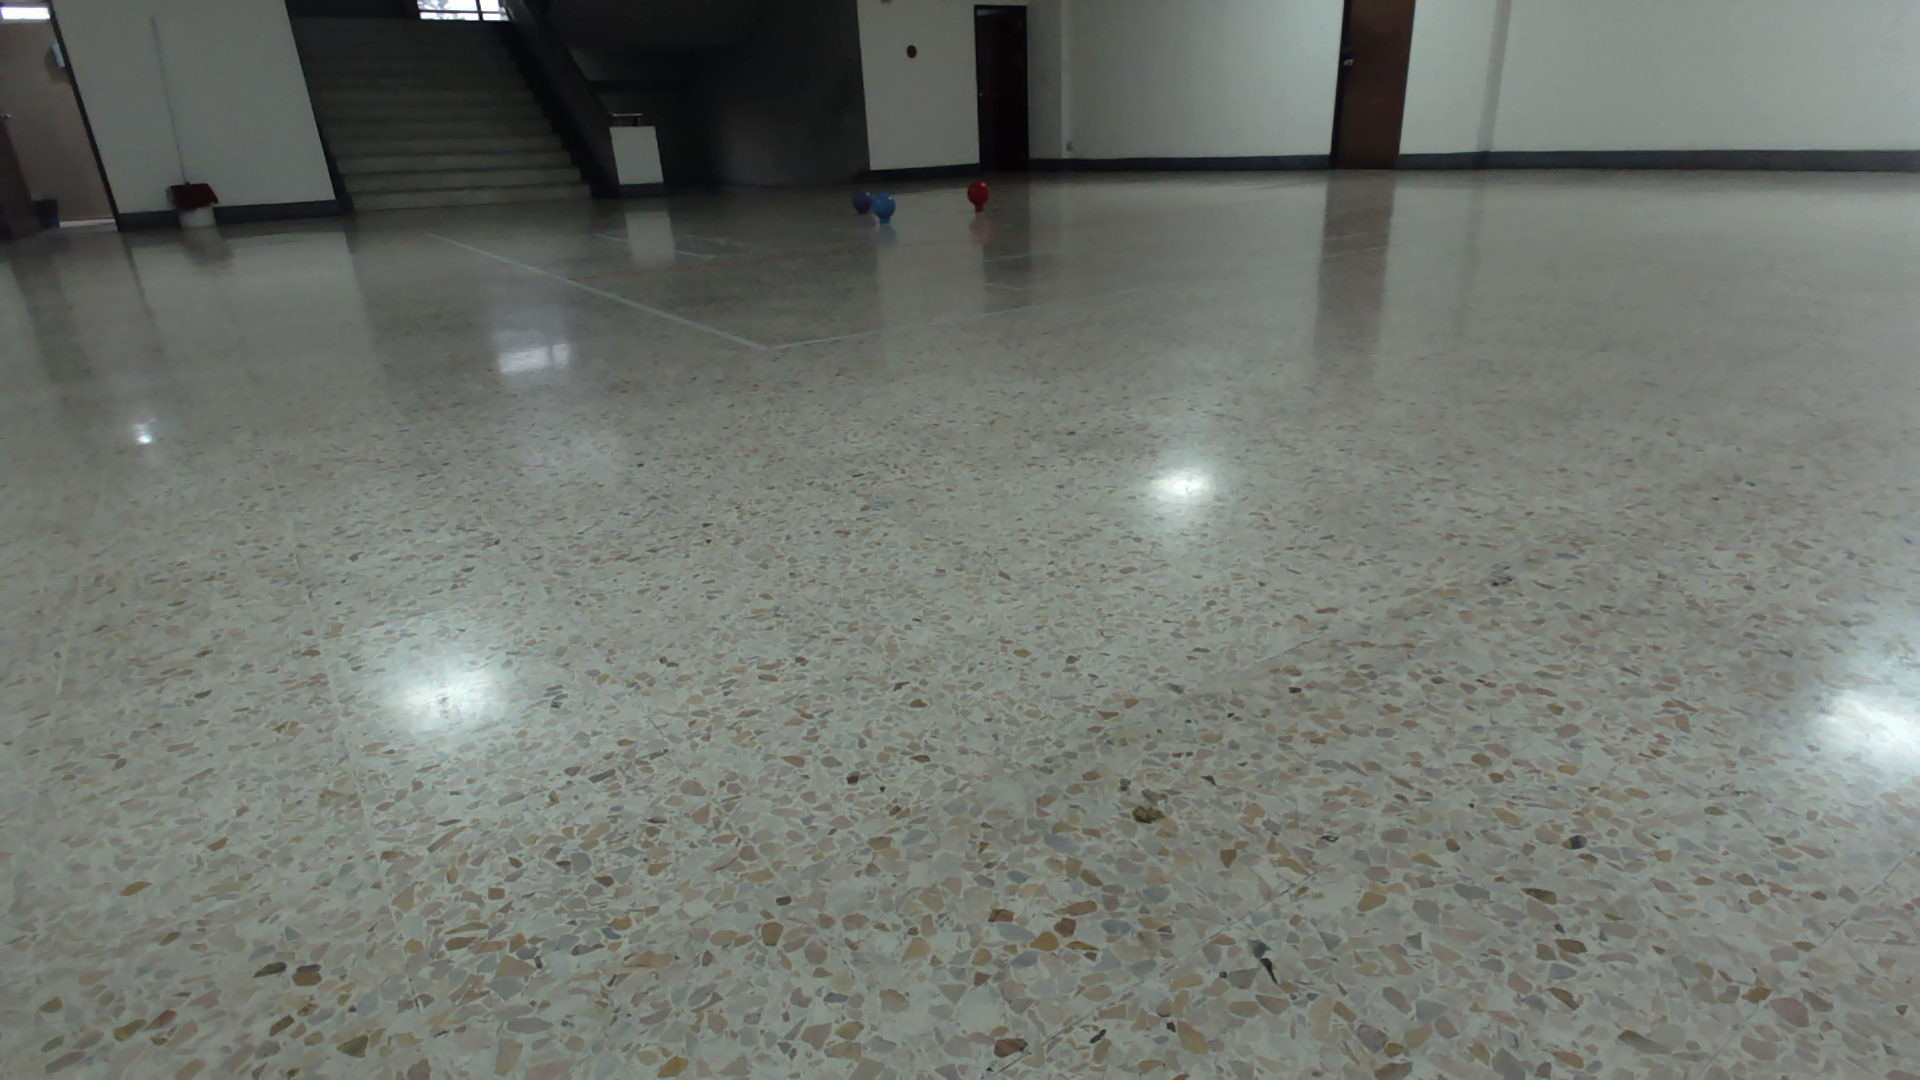Blue ball: (872, 194, 898, 222)
Purple ball: (851, 187, 874, 215)
Red ball: (965, 181, 992, 208)
